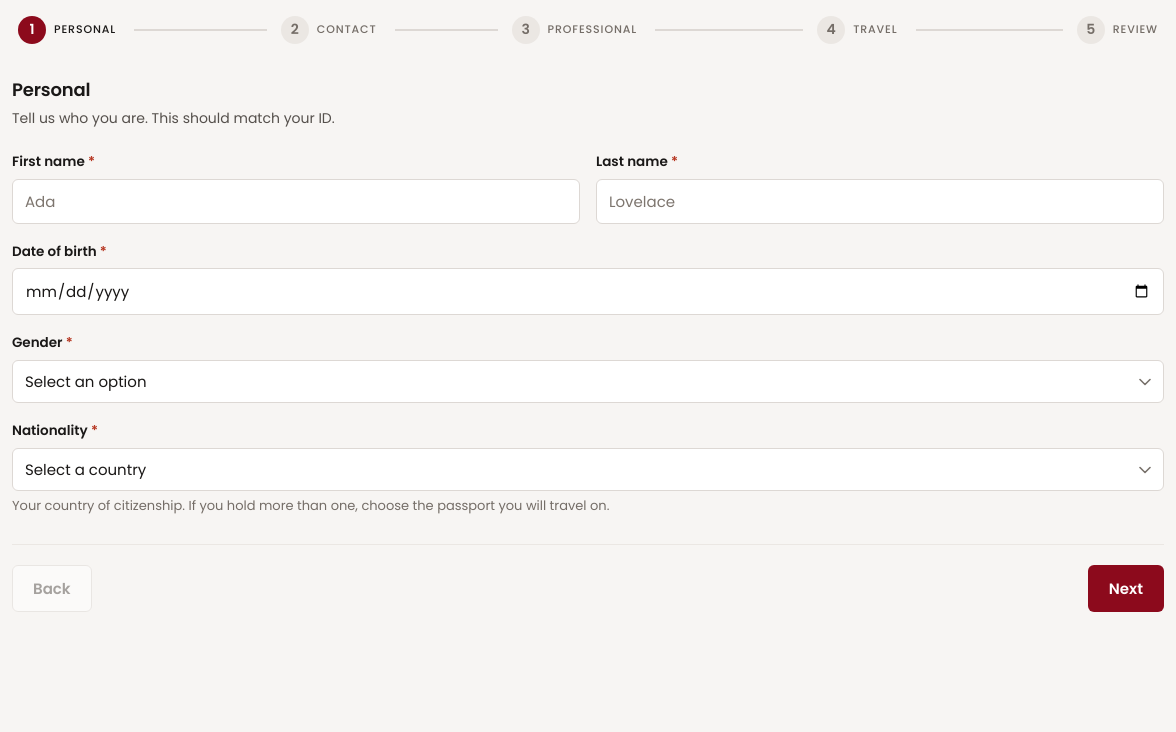
Test: step gating › refuses to advance from an empty step and shows why
Click the button "Next" at x=1126, y=589, box [1088,565,1164,612]
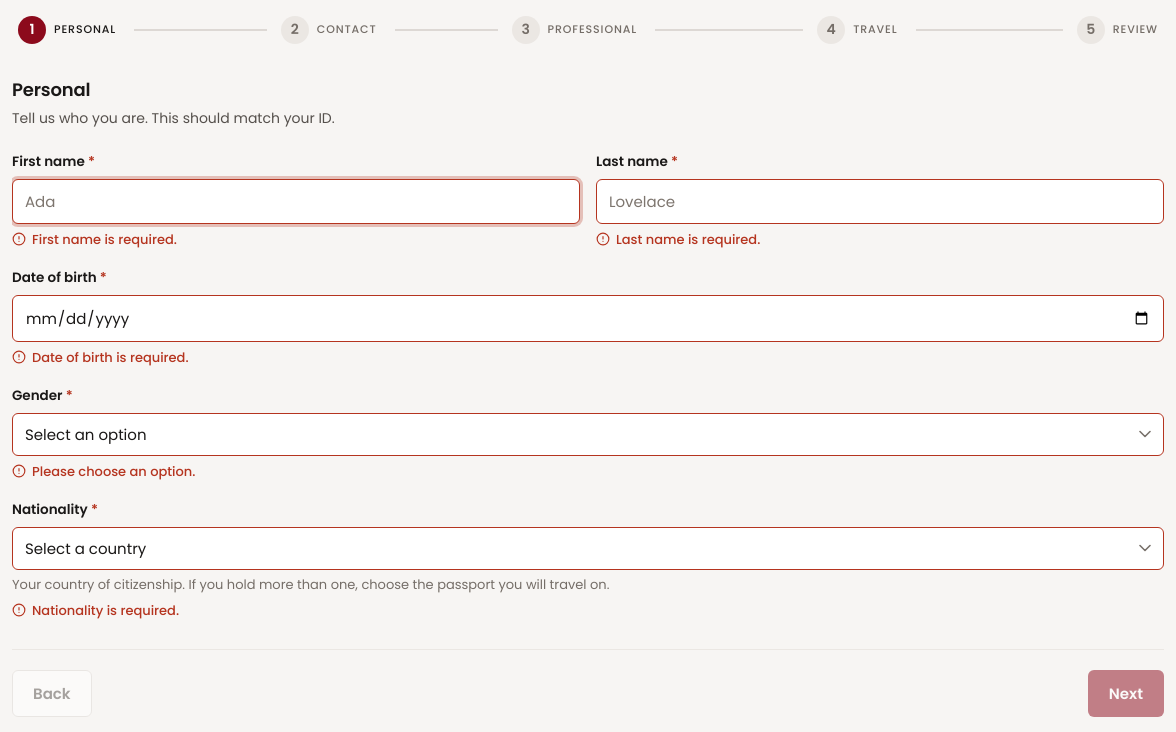
Expected: the heading "Personal" is shown, [12,77,90,102]
Now the text "First name is required." is shown, box [32,230,177,250]
